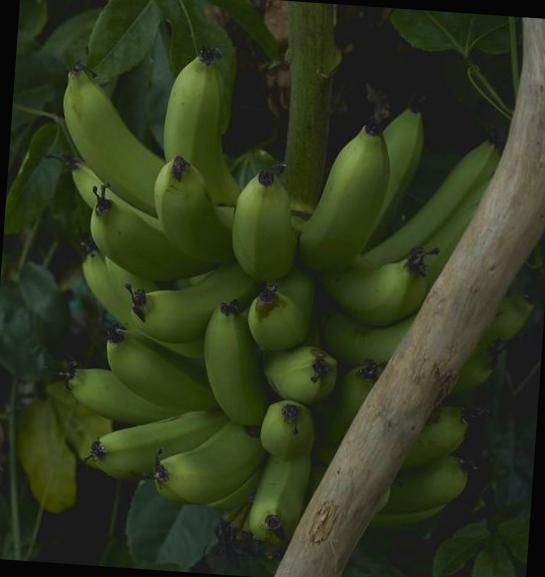Banana Unripe: (12, 26, 524, 568)
